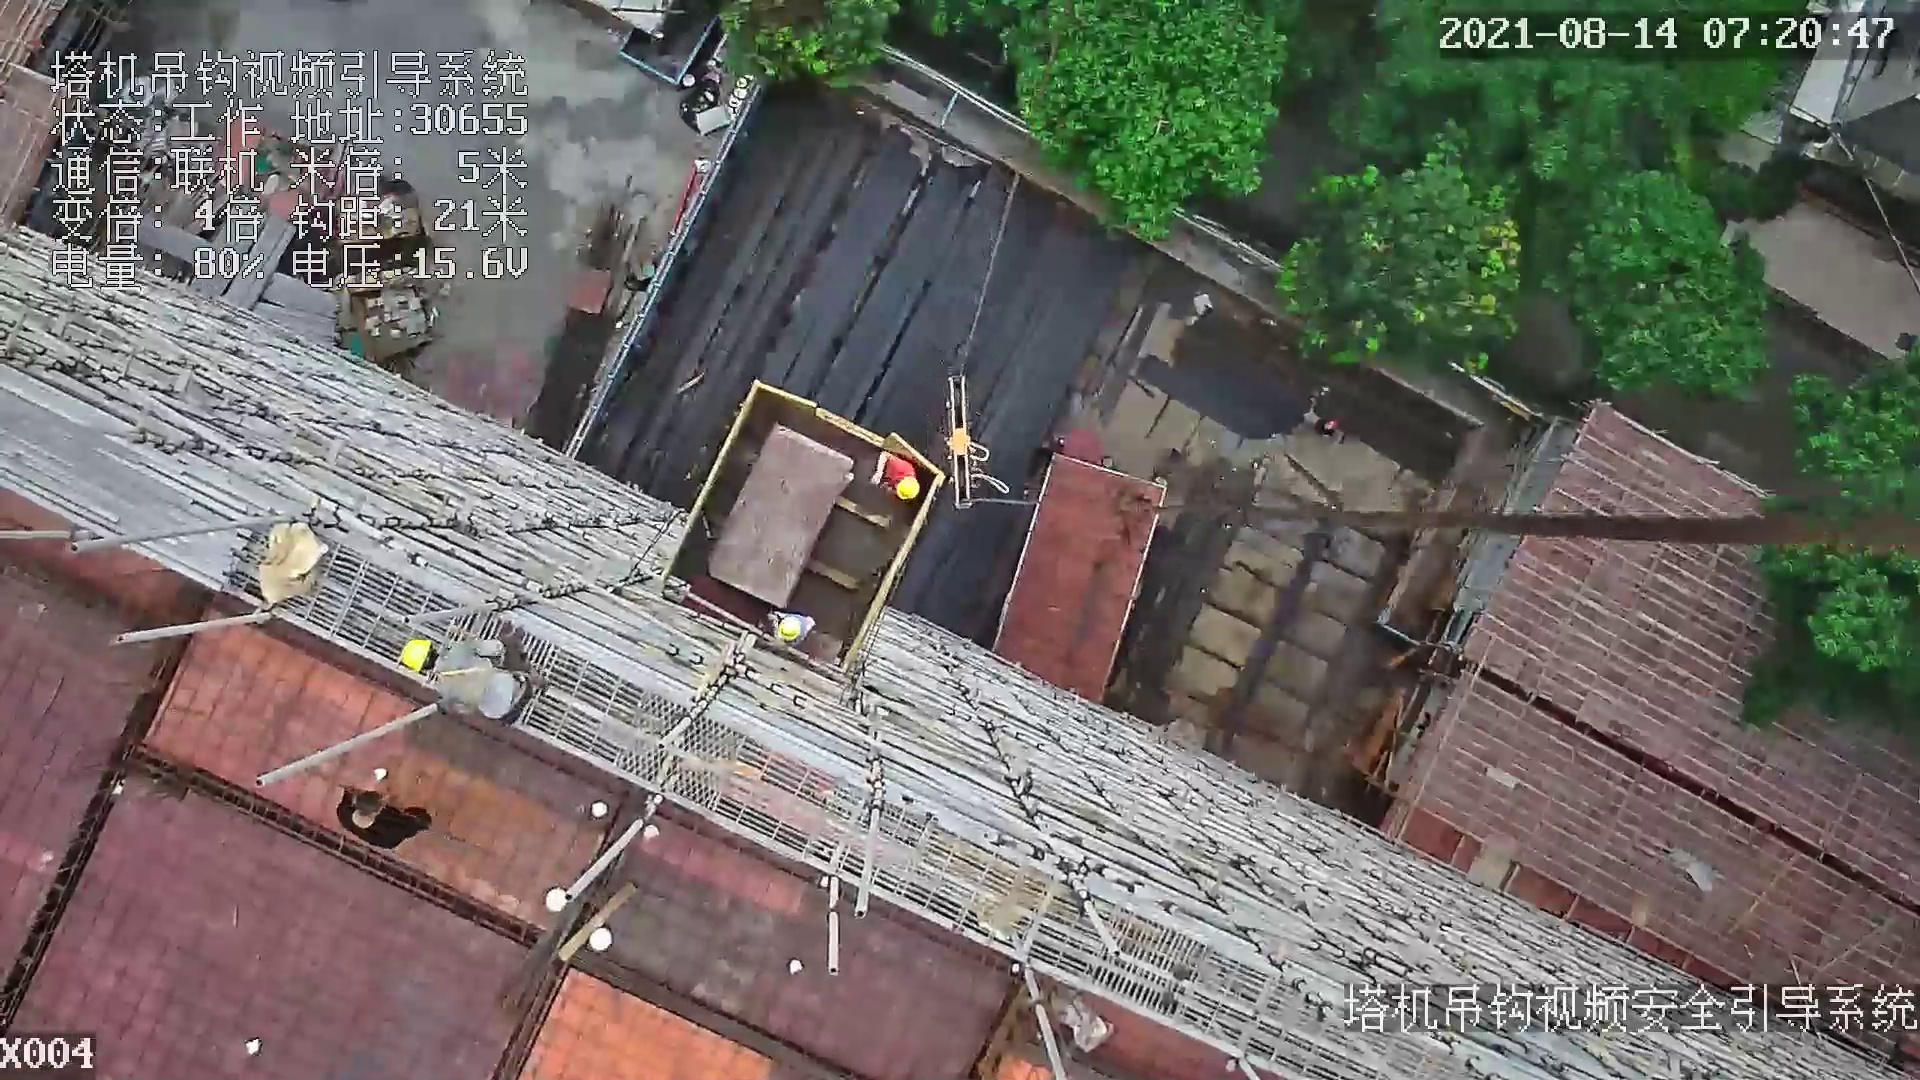helmet: (399, 634, 440, 675), (897, 474, 922, 499), (781, 616, 800, 635)
person: (389, 630, 562, 735), (338, 786, 437, 856), (873, 450, 923, 509), (768, 606, 814, 642)
